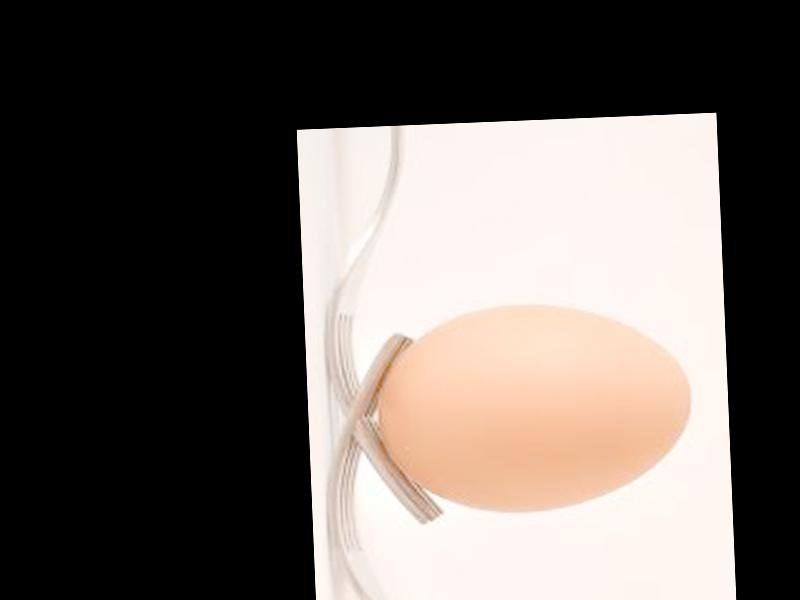Eggs: (374, 298, 694, 517)
